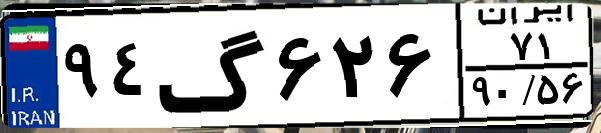0: (495, 70, 520, 125)
1: (537, 27, 568, 80)
2: (330, 28, 385, 110)
4: (110, 28, 156, 98)
5: (535, 70, 560, 125)
6: (270, 28, 330, 110), (385, 28, 445, 110), (560, 70, 590, 125)
7: (508, 27, 537, 80)
9: (57, 26, 110, 100), (470, 70, 495, 125)
گ: (156, 12, 270, 120)
